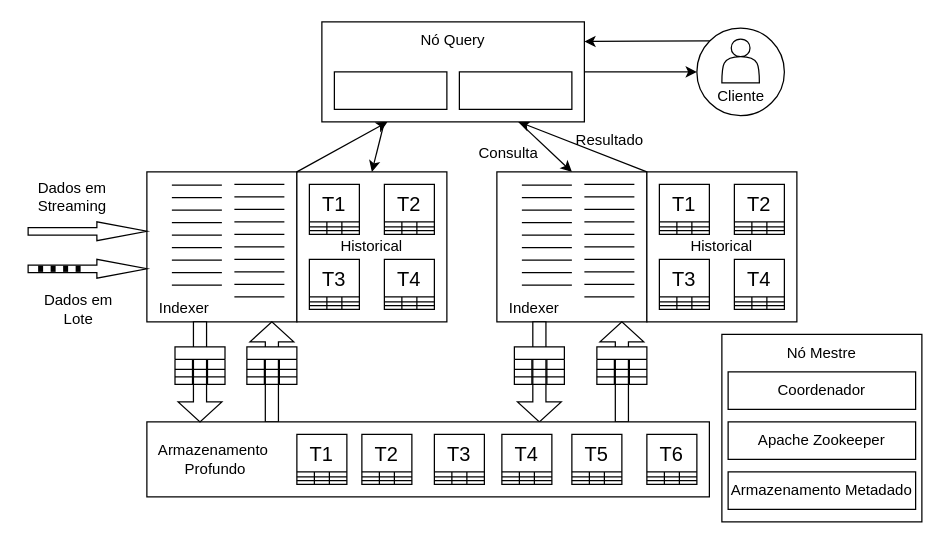
Some shapes in this 944 by 544 pixel diagram are drawn without their labels. The shapes that lost their labels are listed below. From the top down, each one's centre as x and y in pixels, then its label:
pixel 390 90: Broker
pixel 515 90: Console Web
